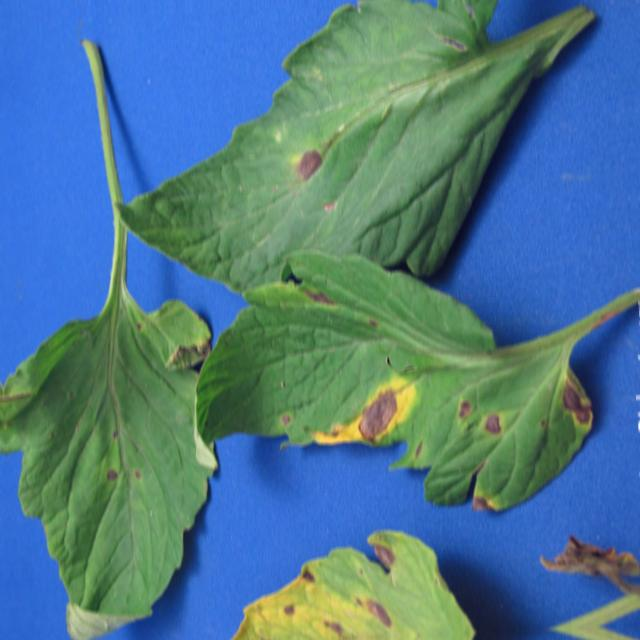Tomato Early blight leaf: (104, 0, 636, 296), (185, 247, 619, 528), (0, 263, 238, 640), (207, 528, 610, 640)
